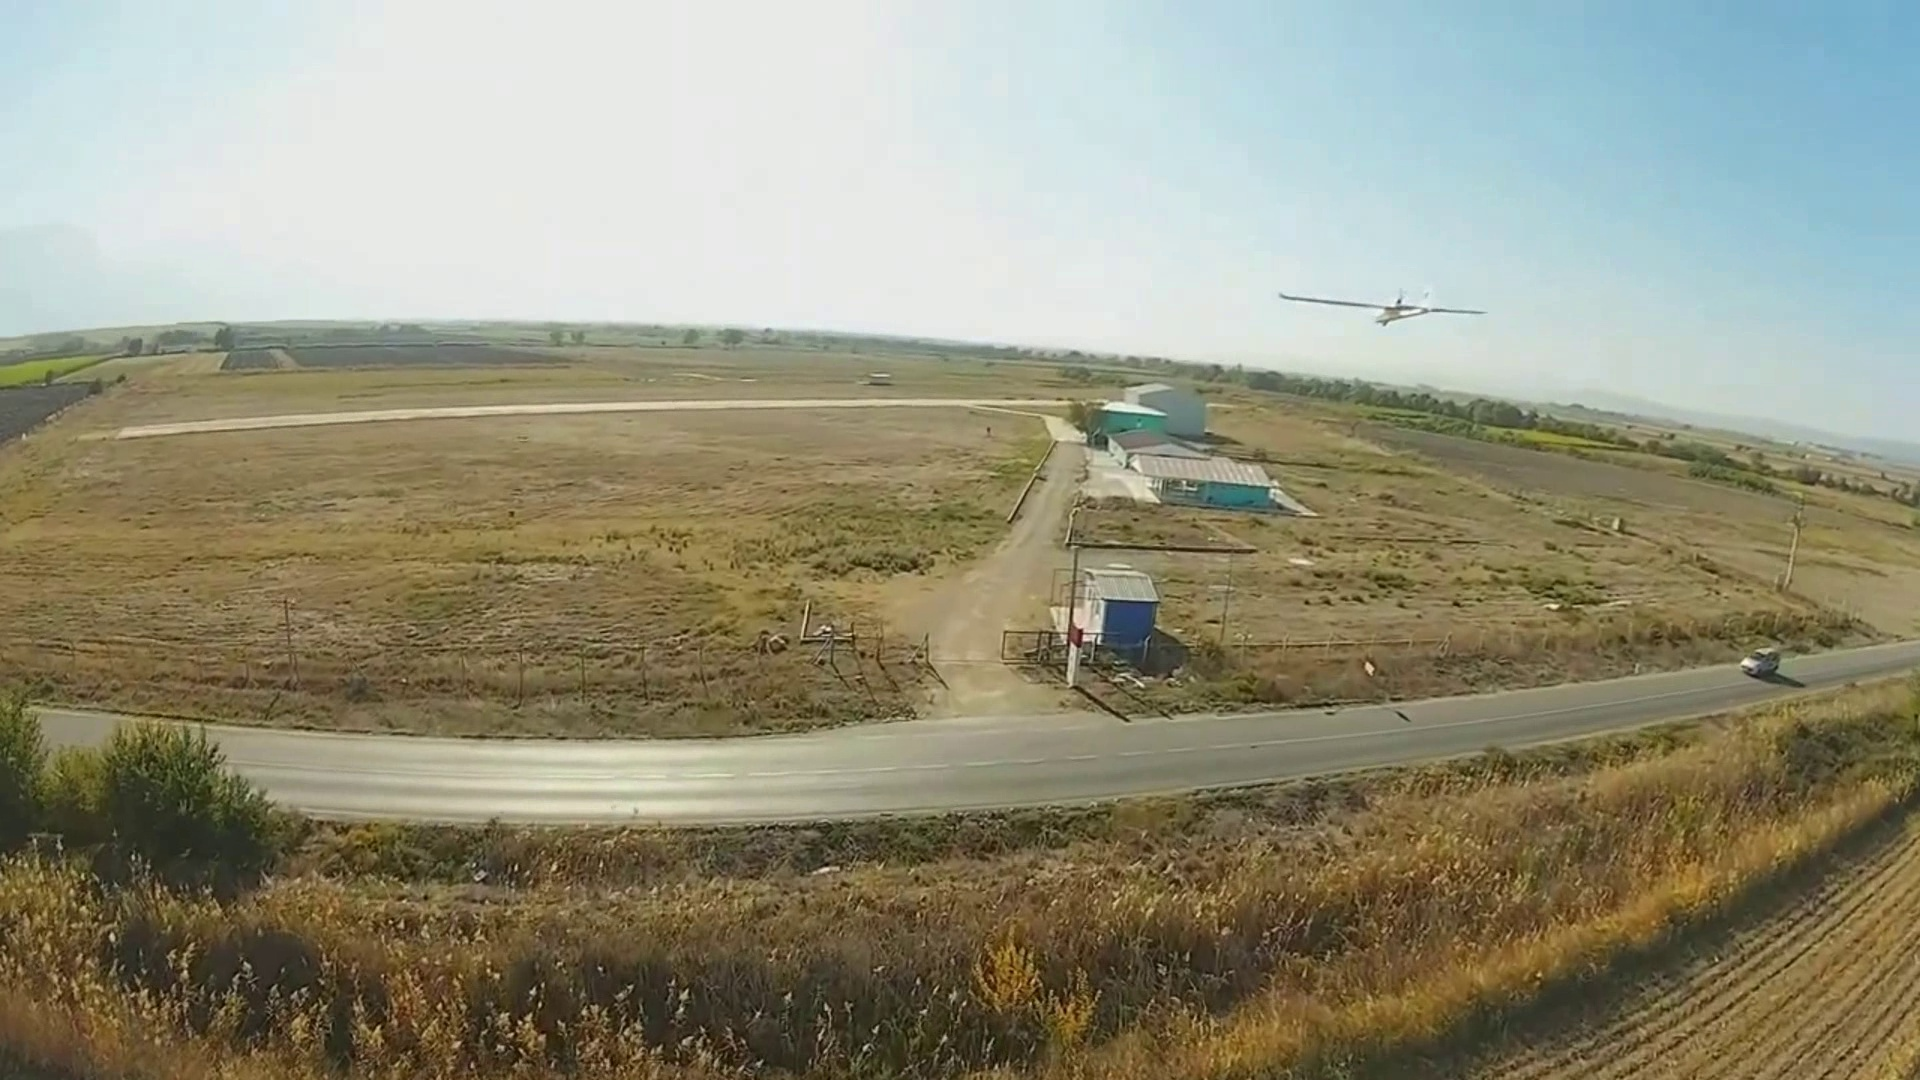airplane: (1274, 268, 1487, 328), (1276, 287, 1491, 328)
